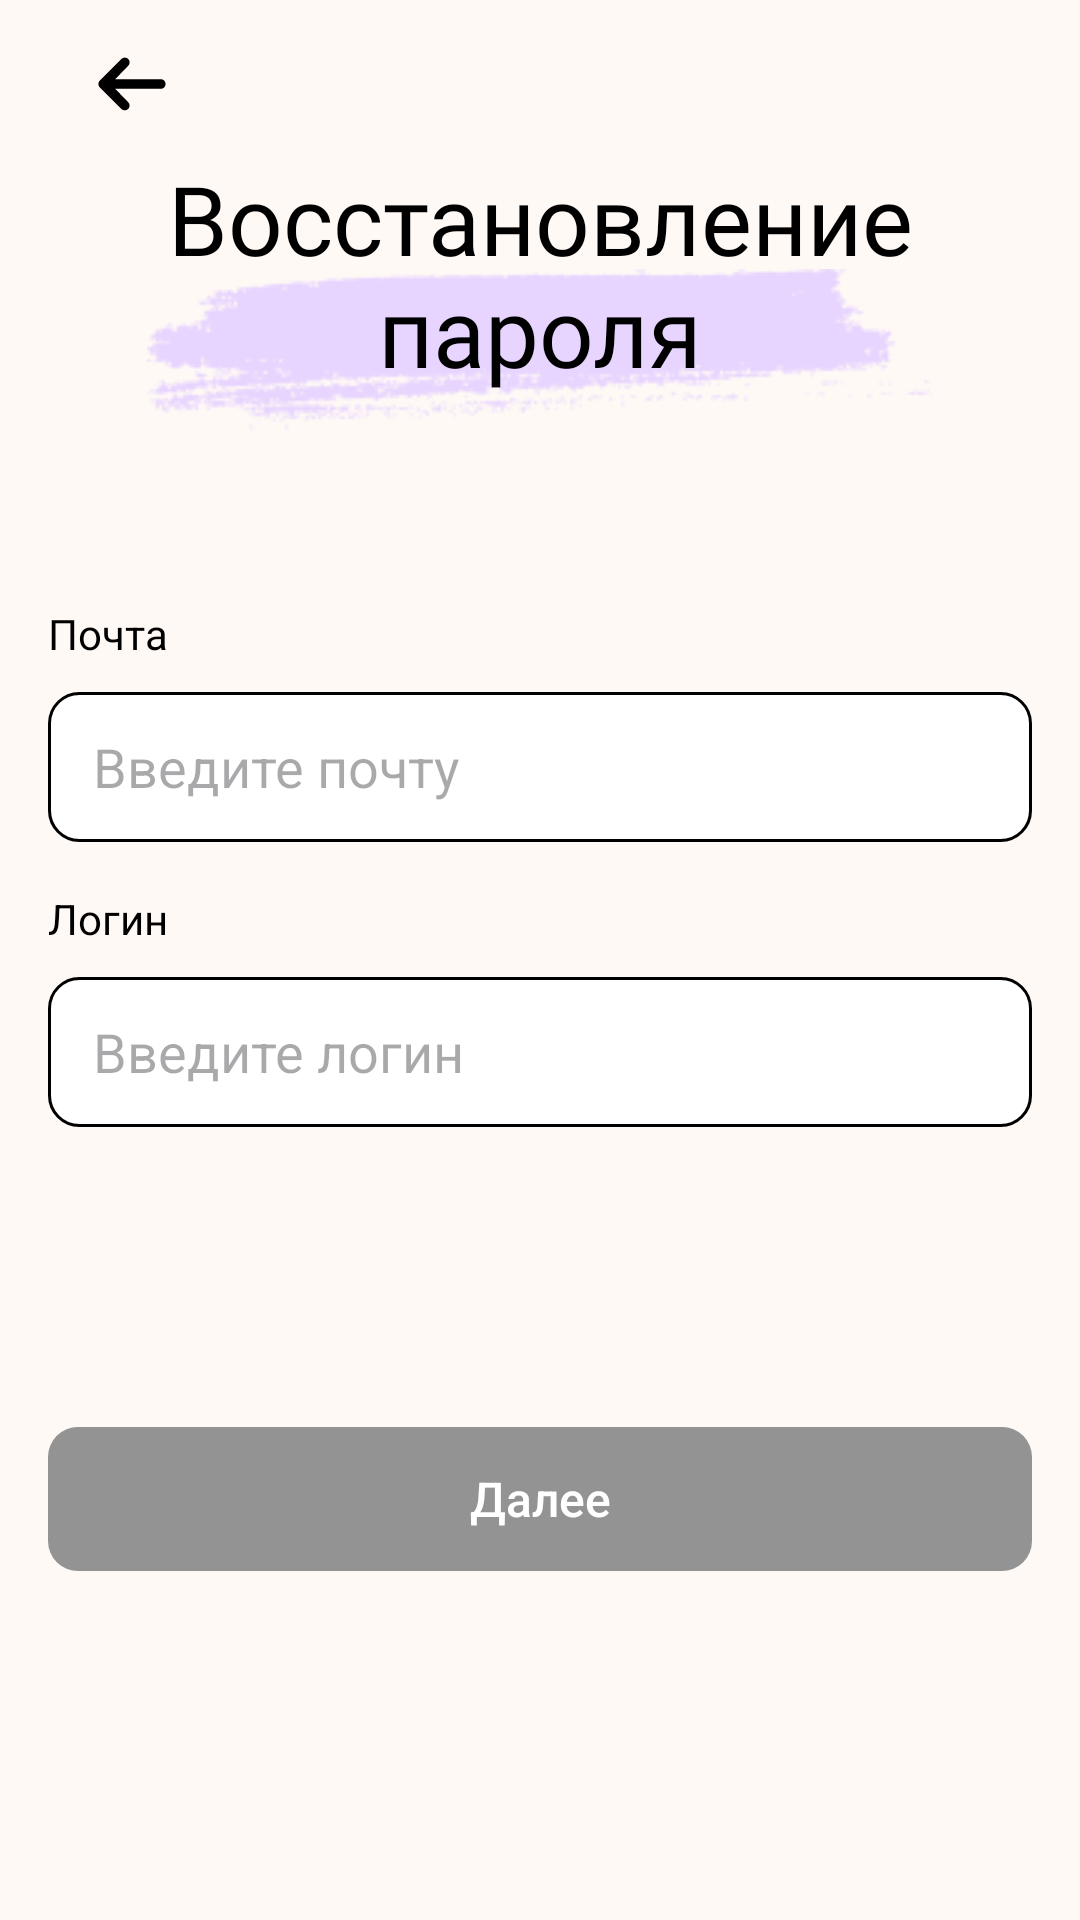

Icon bounding boxes for this 1080×1920 phone screenshot, format (x1, y1, x2, y2):
maki arrow: (98, 57, 166, 111)
